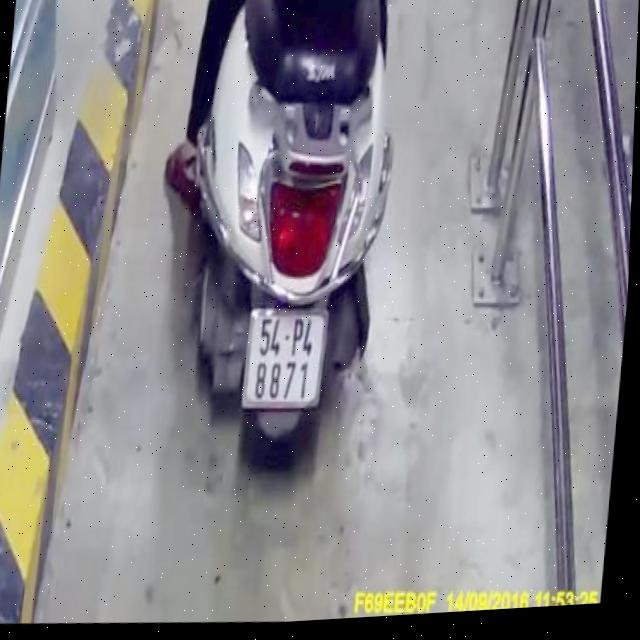motorcycle: (143, 0, 434, 487)
plate: (238, 299, 334, 416)
